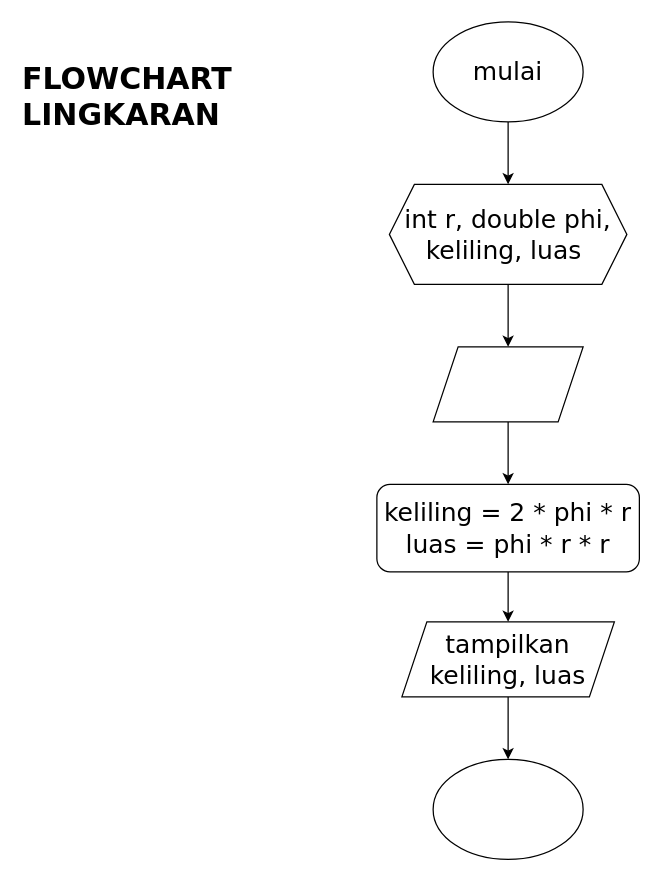
Some shapes in this 661 by 881 pixel diagram are drawn without their labels. The box of each missing label's shape, as (x1, y1, x2, y2) in pixels:
input r: (432, 346, 583, 422)
selesai: (432, 758, 583, 859)
